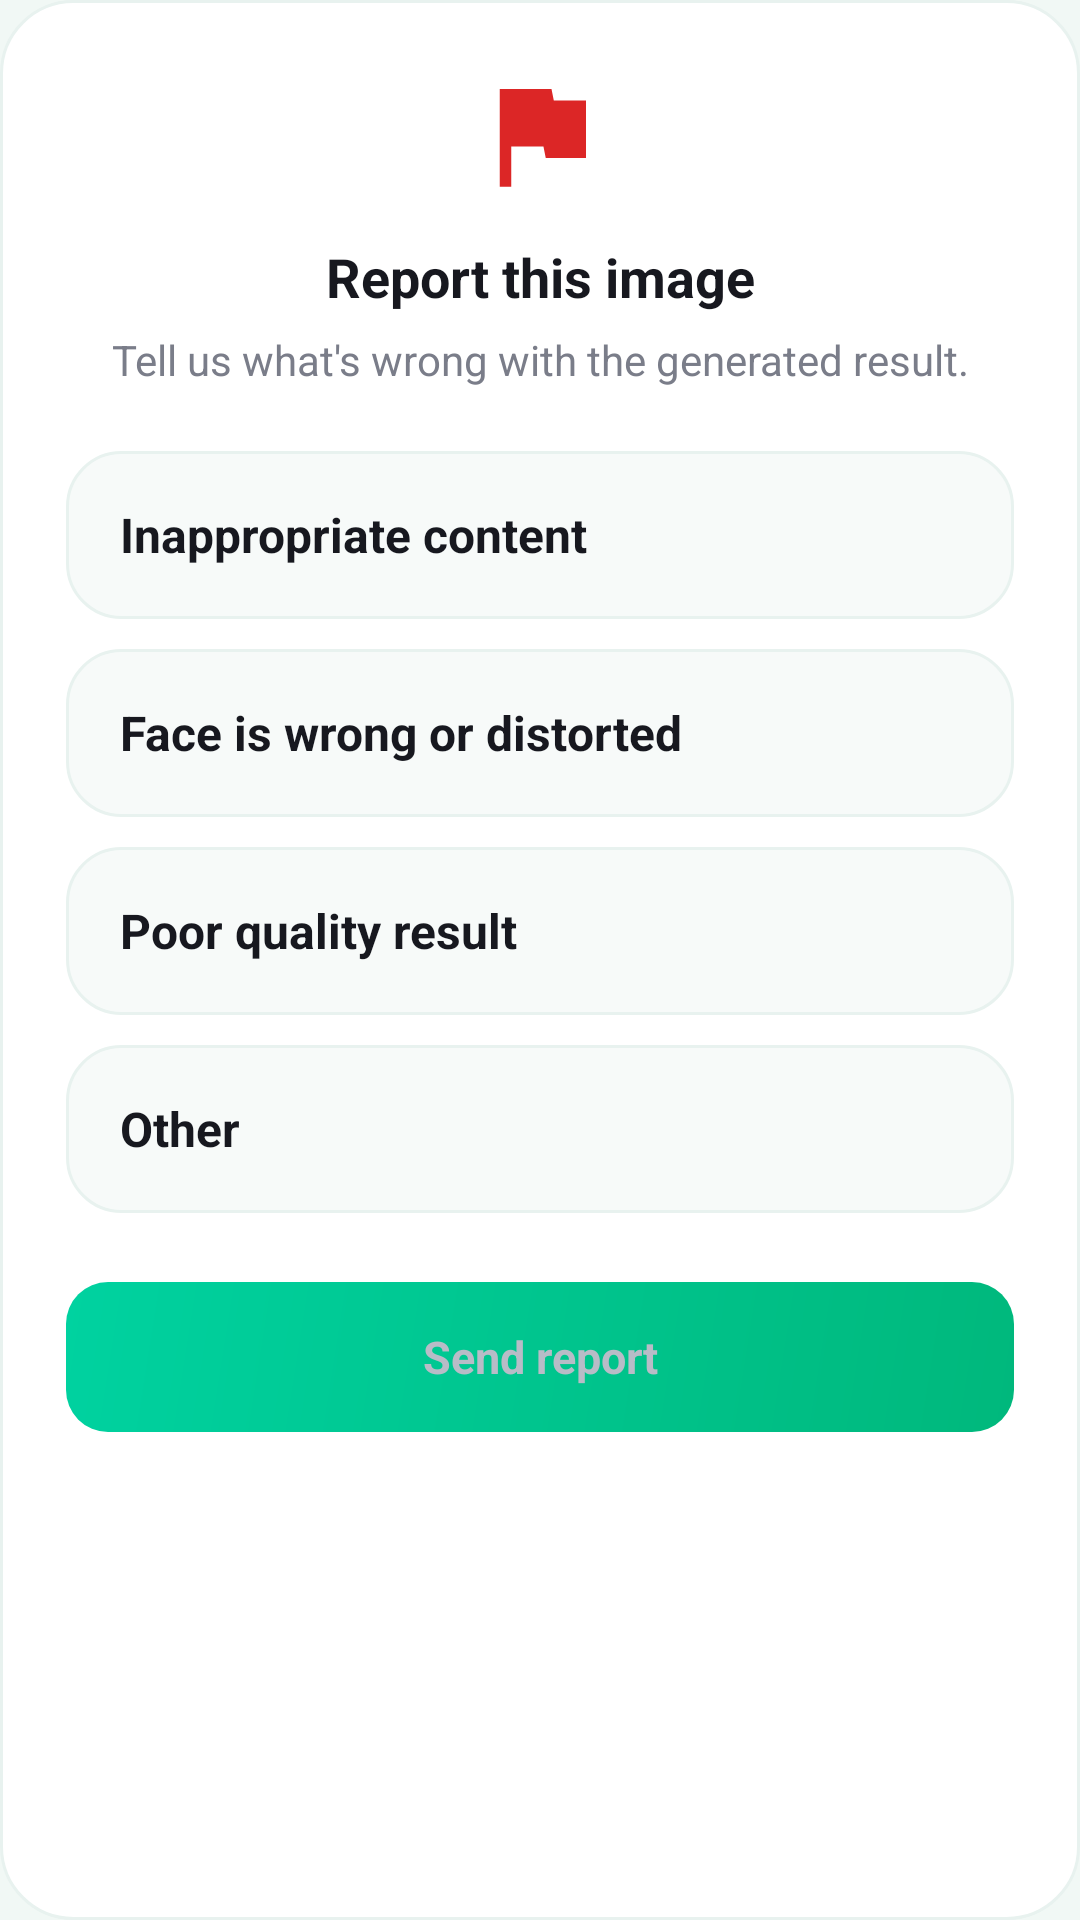

Point at icon controls on the screen. Image size 1080x1920, points as (x=x, y=y).
flag: (x=542, y=138)
